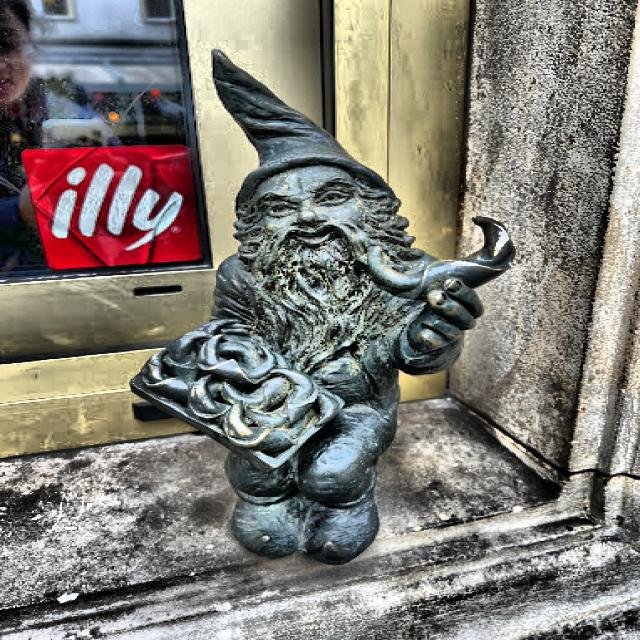Rogalik: (129, 50, 514, 567)
